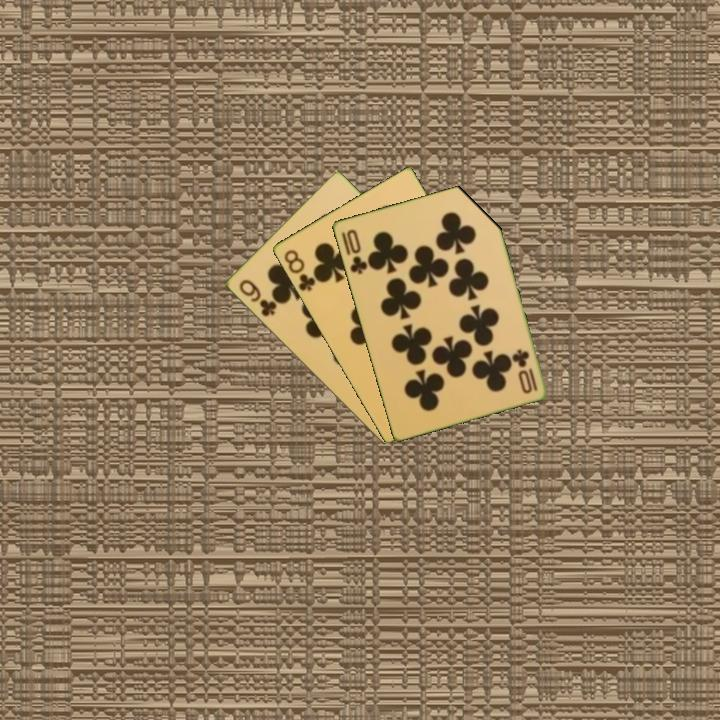10c: (509, 345, 540, 394), (343, 225, 370, 277)
8c: (280, 246, 320, 294)
9c: (235, 276, 280, 320)
